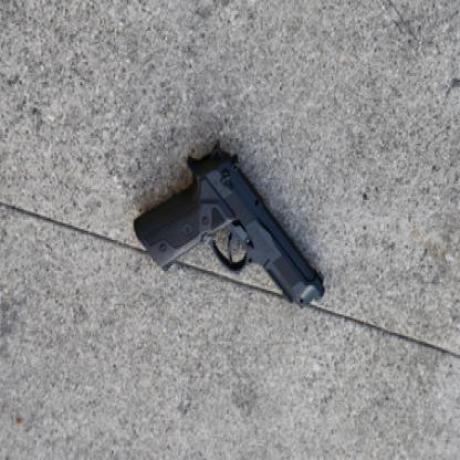weapon: (128, 144, 330, 314)
